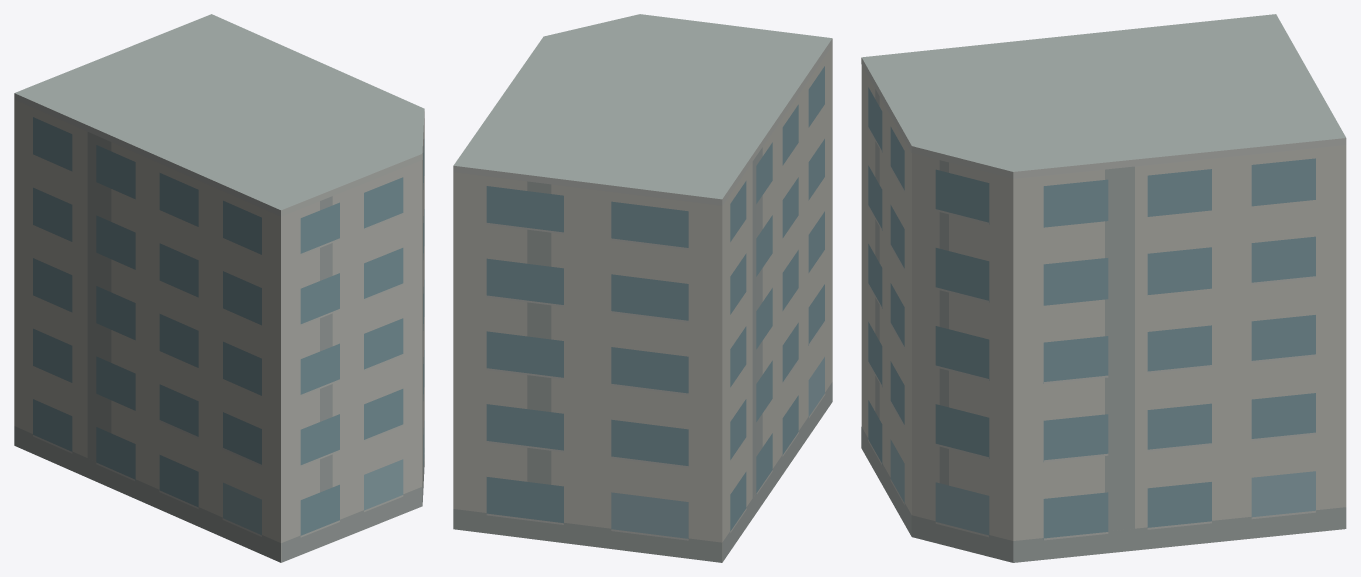
File: survey-upis-32803176.glb
The picture shows the model from 3 angles, left to right: view 1: azimuth 30°, elevation 25°; view 2: azimuth 150°, elevation 25°; view 3: azimuth 270°, elevation 25°; orthographic projection. The views are drawn at different scales.
Visible parts, largest first — view 1: survey-upis-32803176.tmp; view 2: survey-upis-32803176.tmp; view 3: survey-upis-32803176.tmp.
Part boxes in pixels (left/top/right/bottom): survey-upis-32803176.tmp: left=14, top=14, right=424, bottom=562; survey-upis-32803176.tmp: left=453, top=14, right=832, bottom=562; survey-upis-32803176.tmp: left=861, top=14, right=1346, bottom=562.
Bounding box in the file's own units: 11.88 × 13.7 × 15.41.
